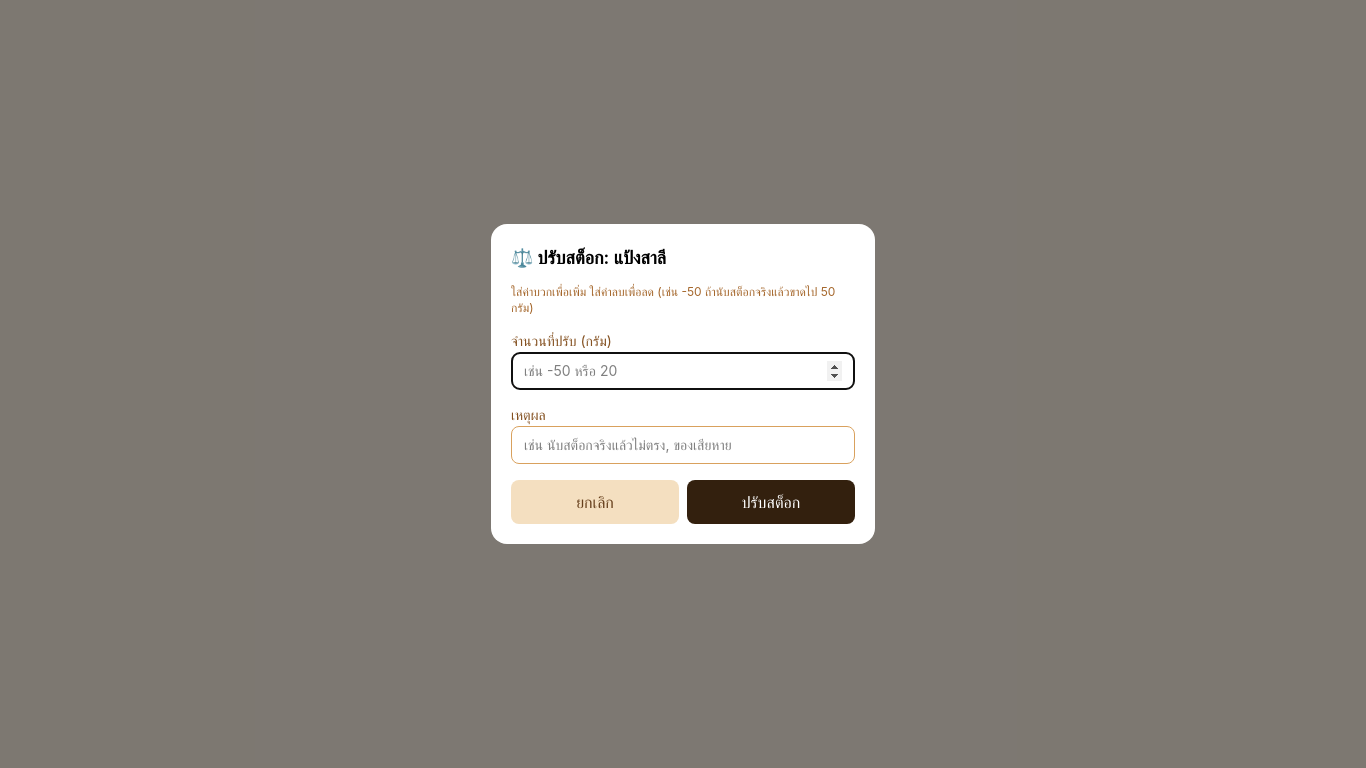
Test: AdjustStockModal › ไม่กรอกจำนวน กดปรับสต็อกแล้วขึ้น error ไม่ยิง adjustIngredientStock
What coordinates should you click on to do the following:
click the button "ปรับสต็อก"
I would click on:
 (771, 502)
Its box is [687,480,855,524].
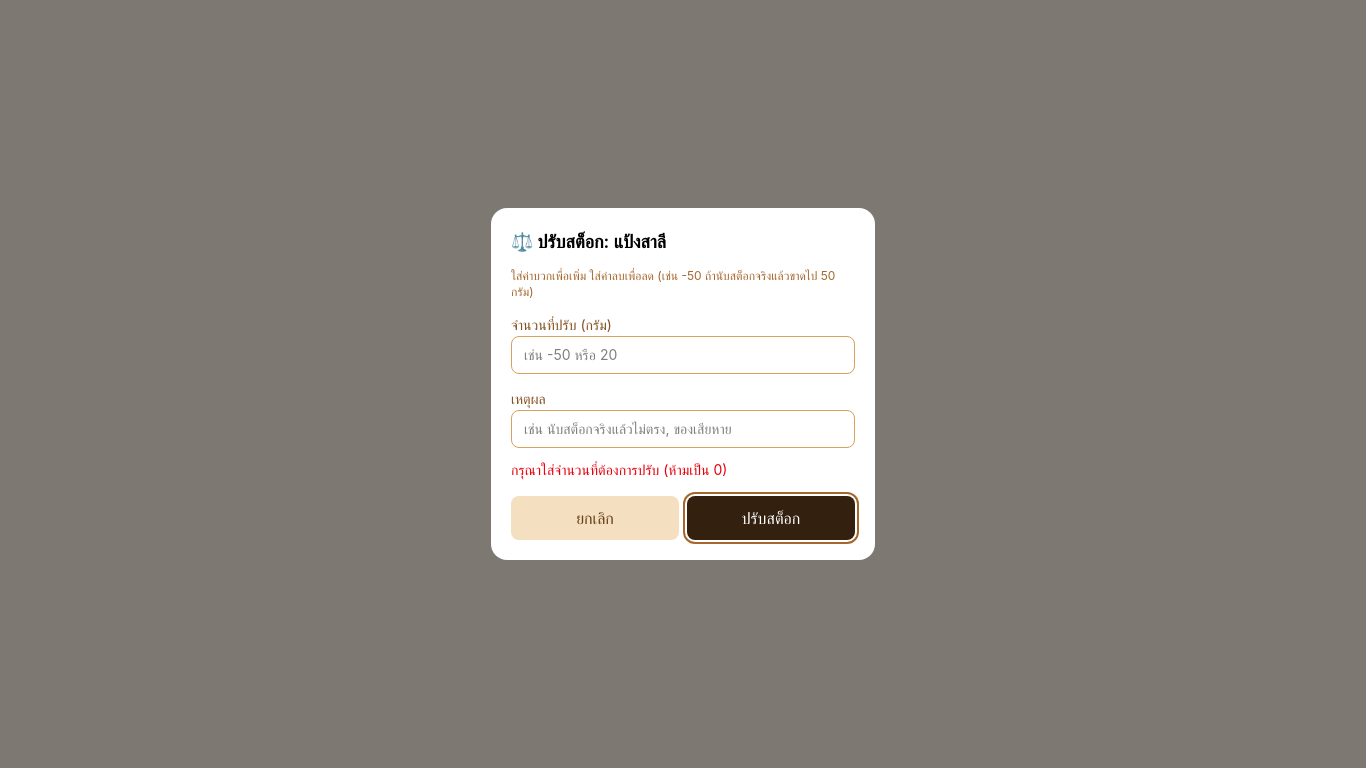
Now the text "กรุณาใส่จำนวนที่ต้องการปรับ (ห้ามเป็น 0)" is shown, box [511,461,727,478]
